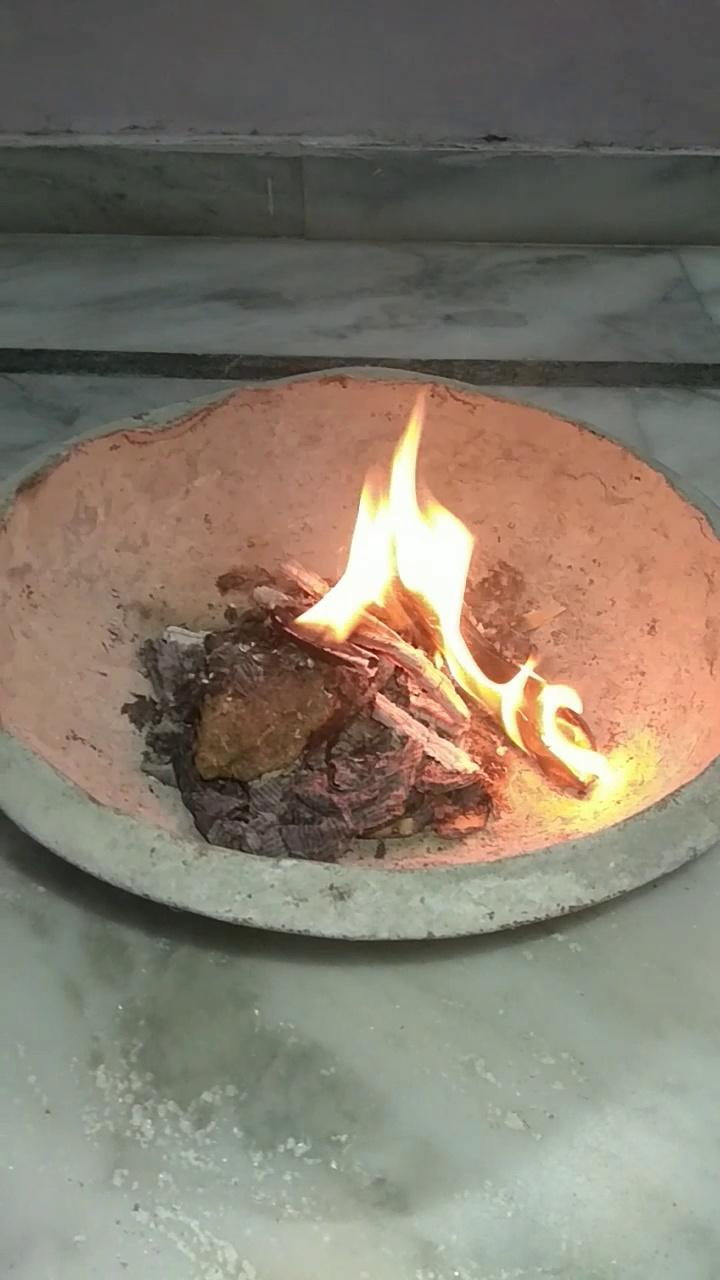fire: (294, 389, 709, 849)
